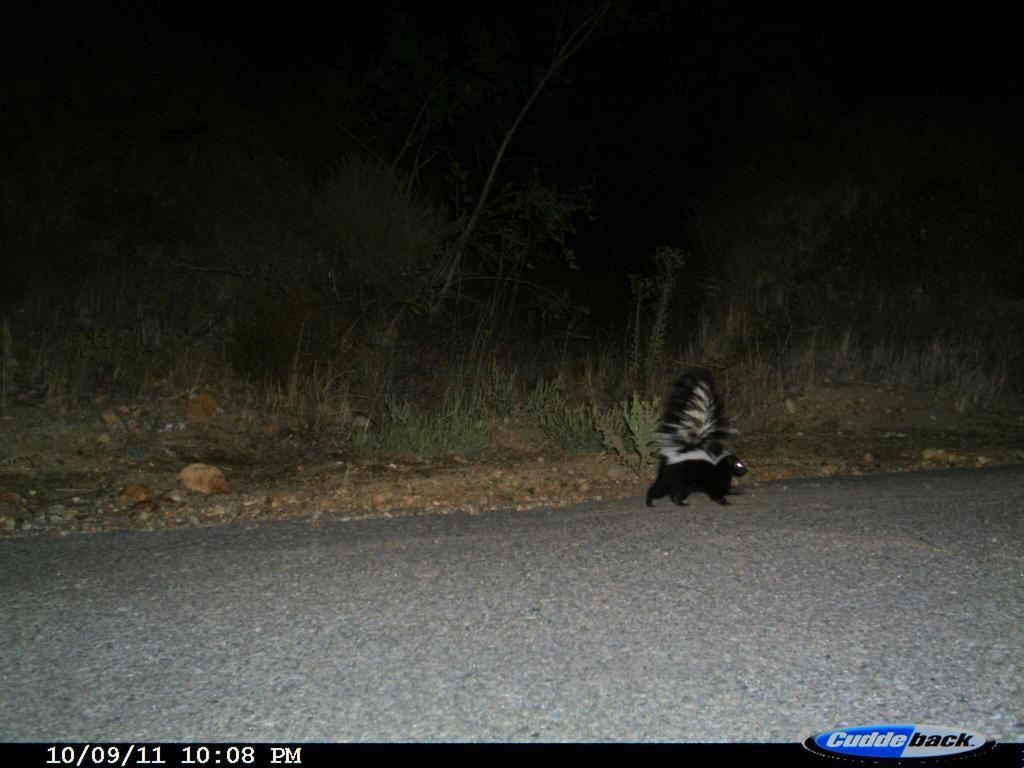skunk: (632, 361, 756, 515)
